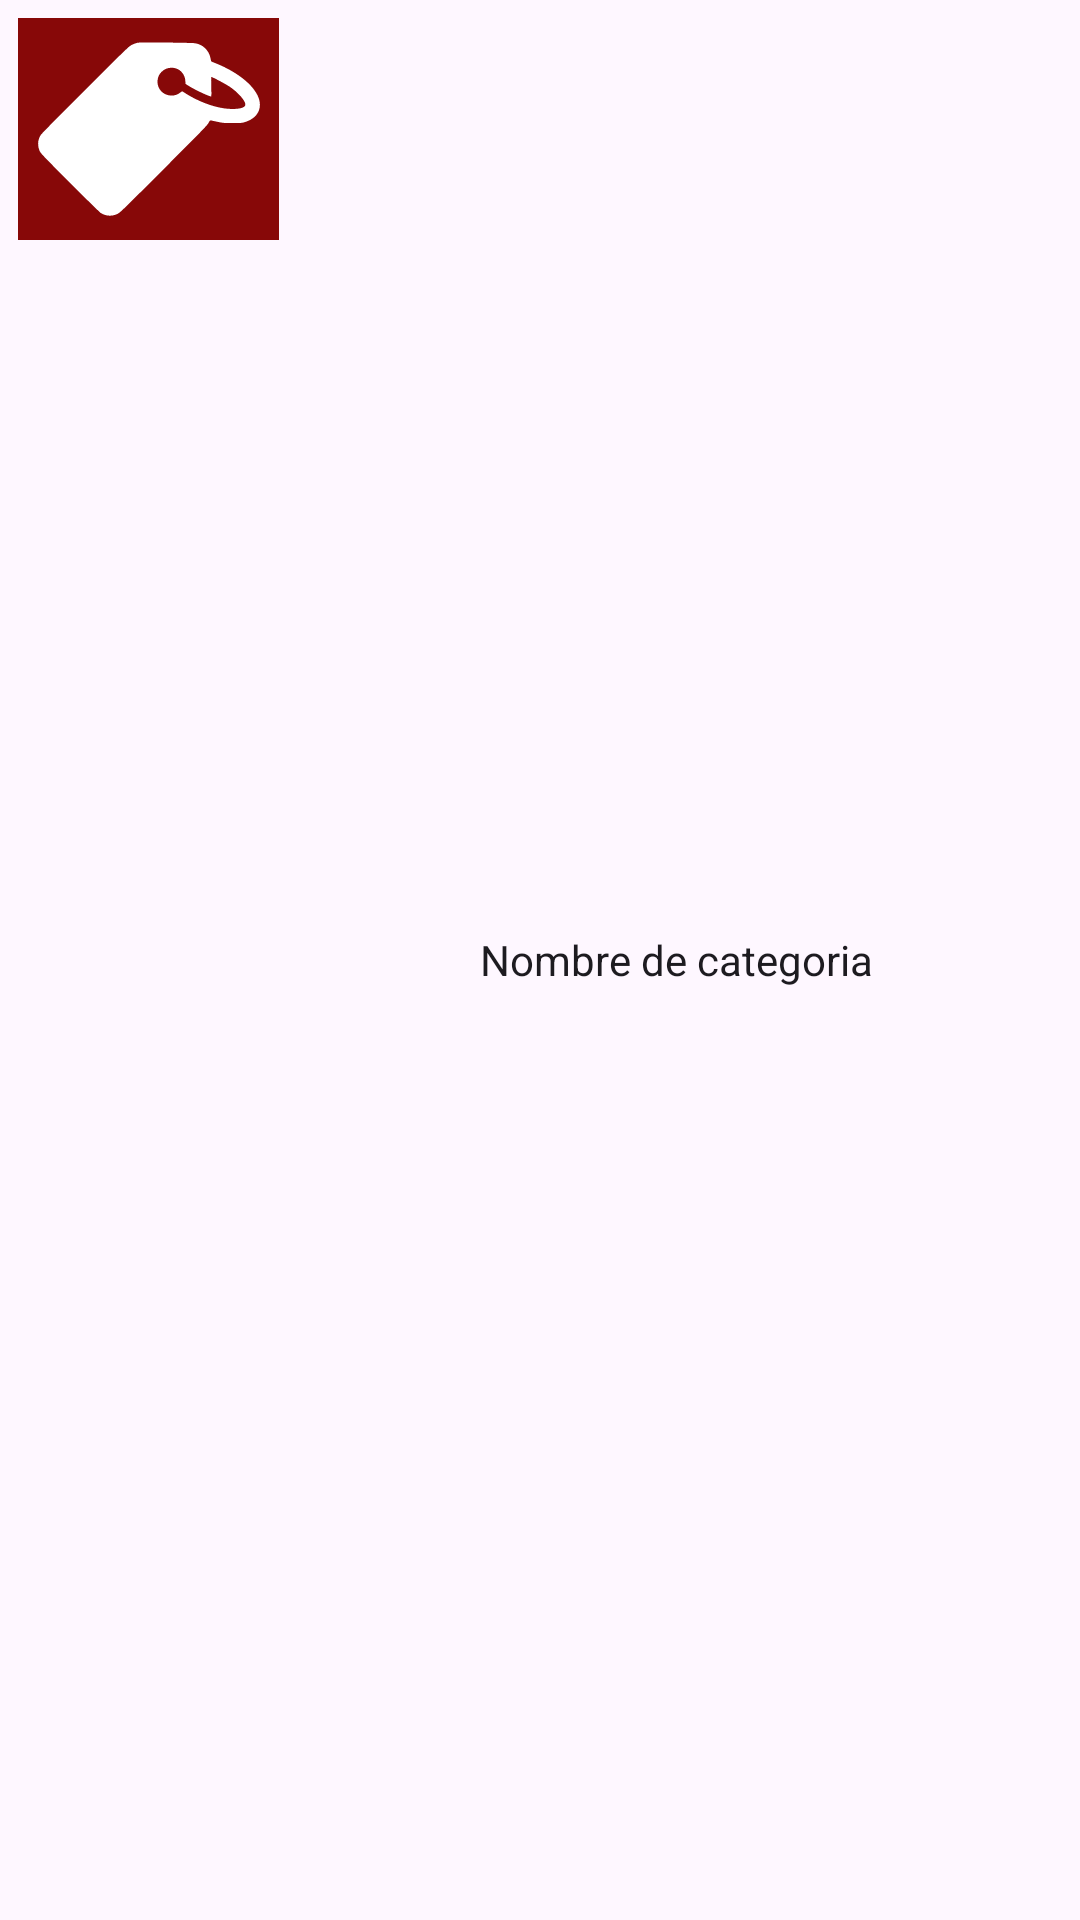

Icons on this 1080 × 1920 Android screen, each with the point to tap as (x,y):
etiquetas: (148,129)
